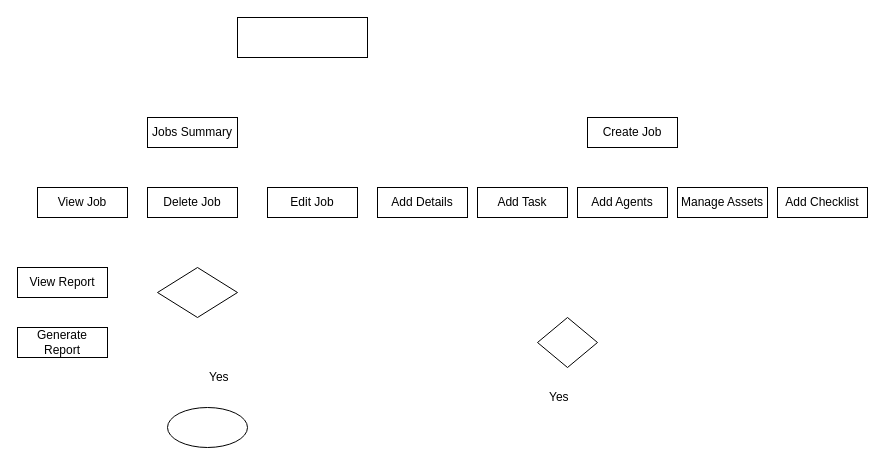
Image size: 885x465. Some labels were removed from this diagram. Each missing label, with the centre of its shape:
"Delete?" goes at (197,292).
"Job" goes at (302,37).
"Job End" goes at (207,427).
"Save?" goes at (567,342).
